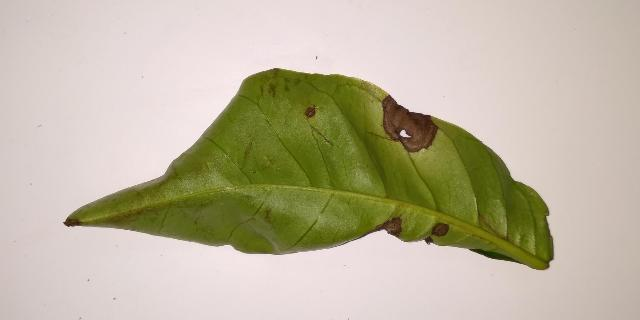rust: (382, 95, 438, 152), (358, 217, 401, 239), (431, 223, 449, 236), (305, 107, 315, 118)
